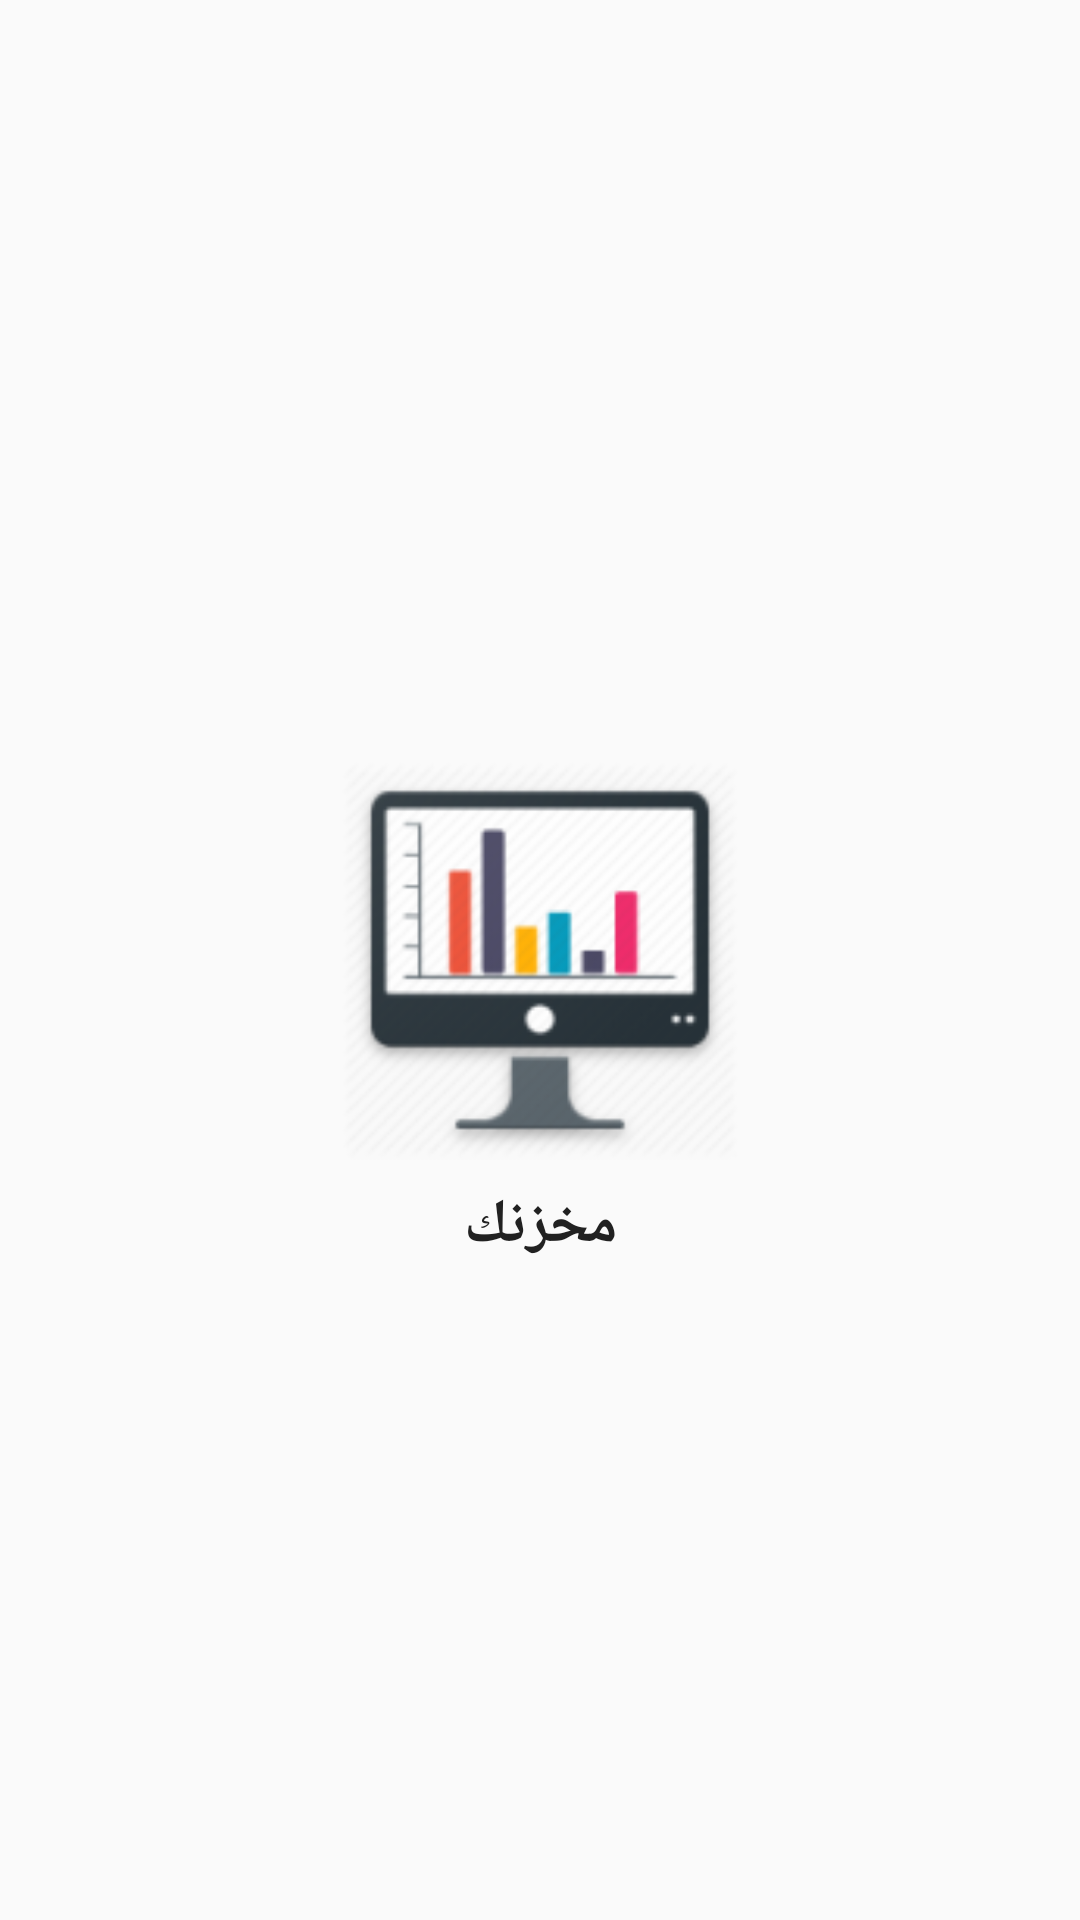

Named icons in this screenshot (1080x1920) and their centers, (x=x, y=y):
reports: (x=540, y=965)
